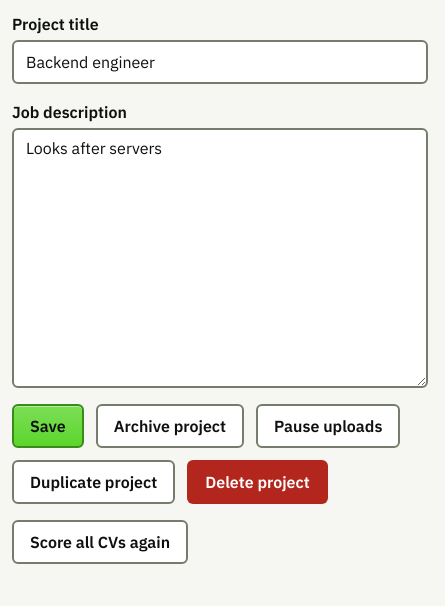
project settings › shows field mistakes next to the field
Expected: the field labelled "Project title" is shown, [12, 40, 428, 84]
Click the button "Save".
click(48, 426)  # box [12, 404, 84, 448]
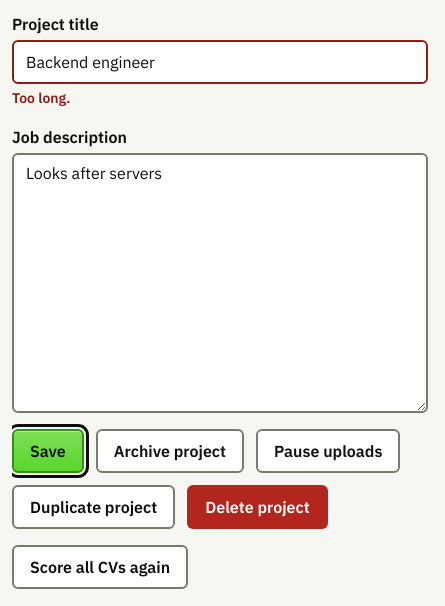
Now the text "Too long." is shown, box [11, 88, 70, 107]
